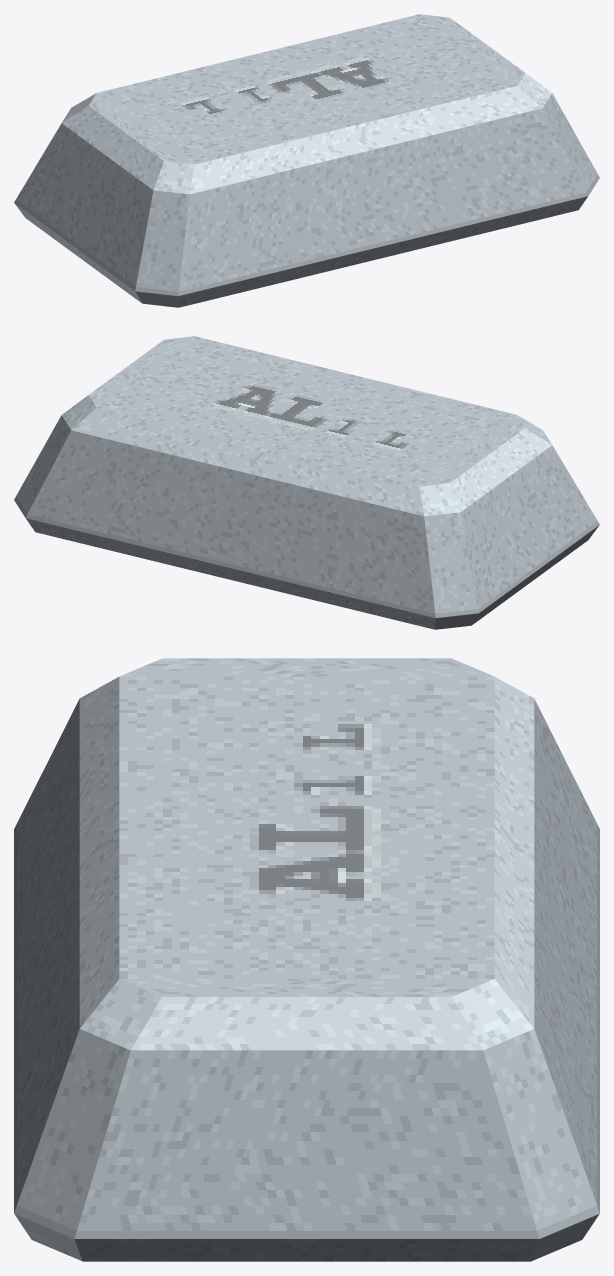
File: 1l_aluminum.glb
The picture shows the model from 3 angles, top to bottom: view 1: azimuth 30°, elevation 25°; view 2: azimuth 150°, elevation 25°; view 3: azimuth 270°, elevation 25°; orthographic projection. The views are drawn at different scales.
Parts seen in each view (by area): view 1: block_one-piece cast ingot; view 2: block_one-piece cast ingot; view 3: block_one-piece cast ingot.
Part boxes in pixels (x1,y1,x2,y2): block_one-piece cast ingot: (14,14,599,307); block_one-piece cast ingot: (14,336,599,629); block_one-piece cast ingot: (14,658,599,1261).
Bounding box in the file's own units: 0.181 × 0.0436 × 0.103.
1 material, 1 textured.
